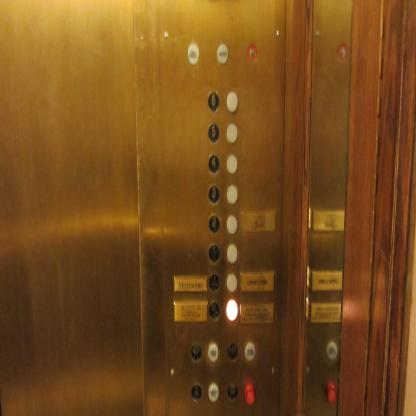1: (209, 244, 219, 261)
2: (208, 213, 220, 234)
3: (208, 184, 219, 204)
4: (208, 154, 220, 174)
5: (207, 123, 220, 144)
6: (207, 91, 220, 112)
RL: (209, 300, 220, 321)
UL: (209, 273, 219, 293)
alarm: (190, 382, 202, 404)
close: (228, 342, 239, 362)
empty: (226, 297, 238, 321), (225, 122, 238, 143), (226, 91, 238, 112), (226, 184, 238, 205), (226, 273, 238, 294), (226, 154, 238, 174), (226, 214, 237, 234), (227, 244, 238, 264)
keyhole: (336, 42, 348, 62), (247, 42, 258, 62), (228, 382, 238, 399)
open: (191, 342, 202, 362)
text: (216, 42, 229, 66), (186, 43, 200, 65), (326, 381, 338, 406), (244, 342, 256, 362), (208, 382, 219, 403), (208, 342, 219, 362)
text_blur: (244, 382, 256, 407), (326, 341, 338, 361)
